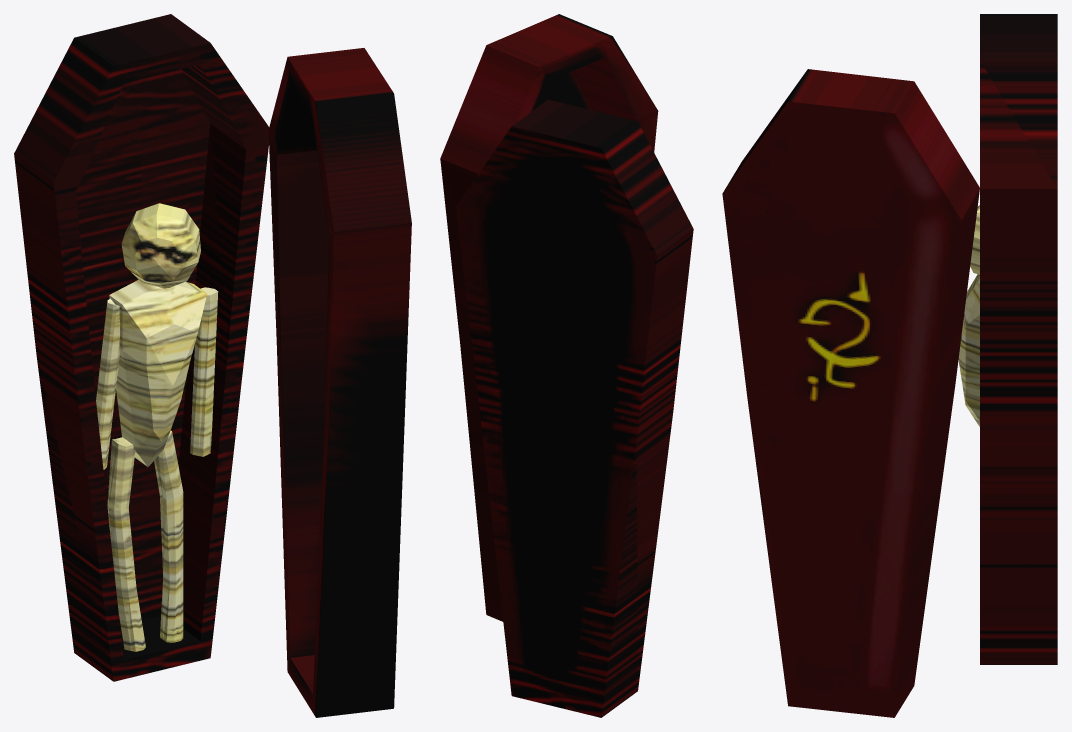
File: Mummy.glb
3 renders of one model, left to right at view 1: azimuth 30°, elevation 25°; view 2: azimuth 150°, elevation 25°; view 3: azimuth 270°, elevation 25°, orthographic. The views are drawn at different scales.
Visible parts, largest first — view 1: Mummy; view 2: Mummy; view 3: Mummy.
Boxes of the visible parts, x1=… form: Mummy: x1=14, y1=14, x2=411, y2=717; Mummy: x1=440, y1=14, x2=693, y2=717; Mummy: x1=722, y1=14, x2=1057, y2=717.
Size of the model in its own units: 131 by 271 by 136.
1 material, 1 textured.
